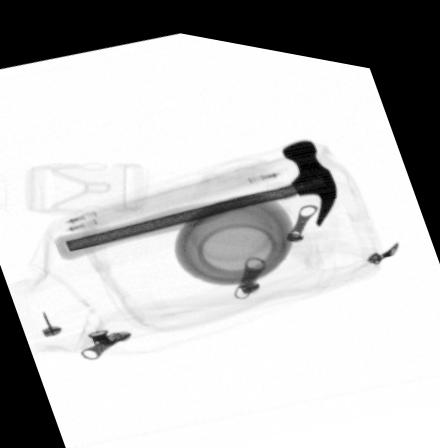Hammer: (52, 127, 337, 257)
